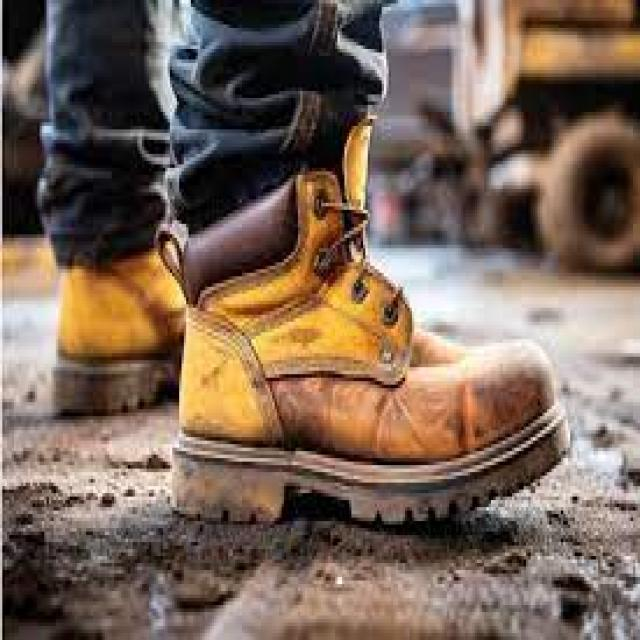shoes: (168, 212, 570, 522), (47, 260, 182, 417)
